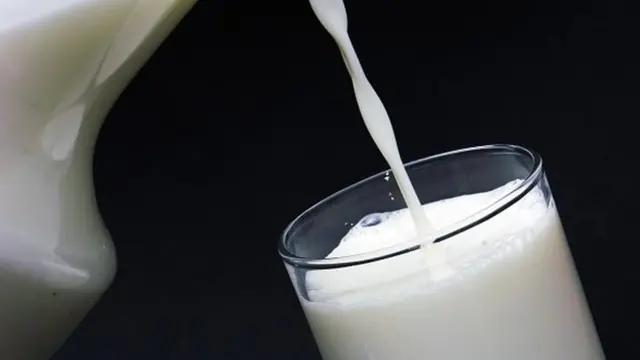produk_susu: (336, 192, 532, 348)
